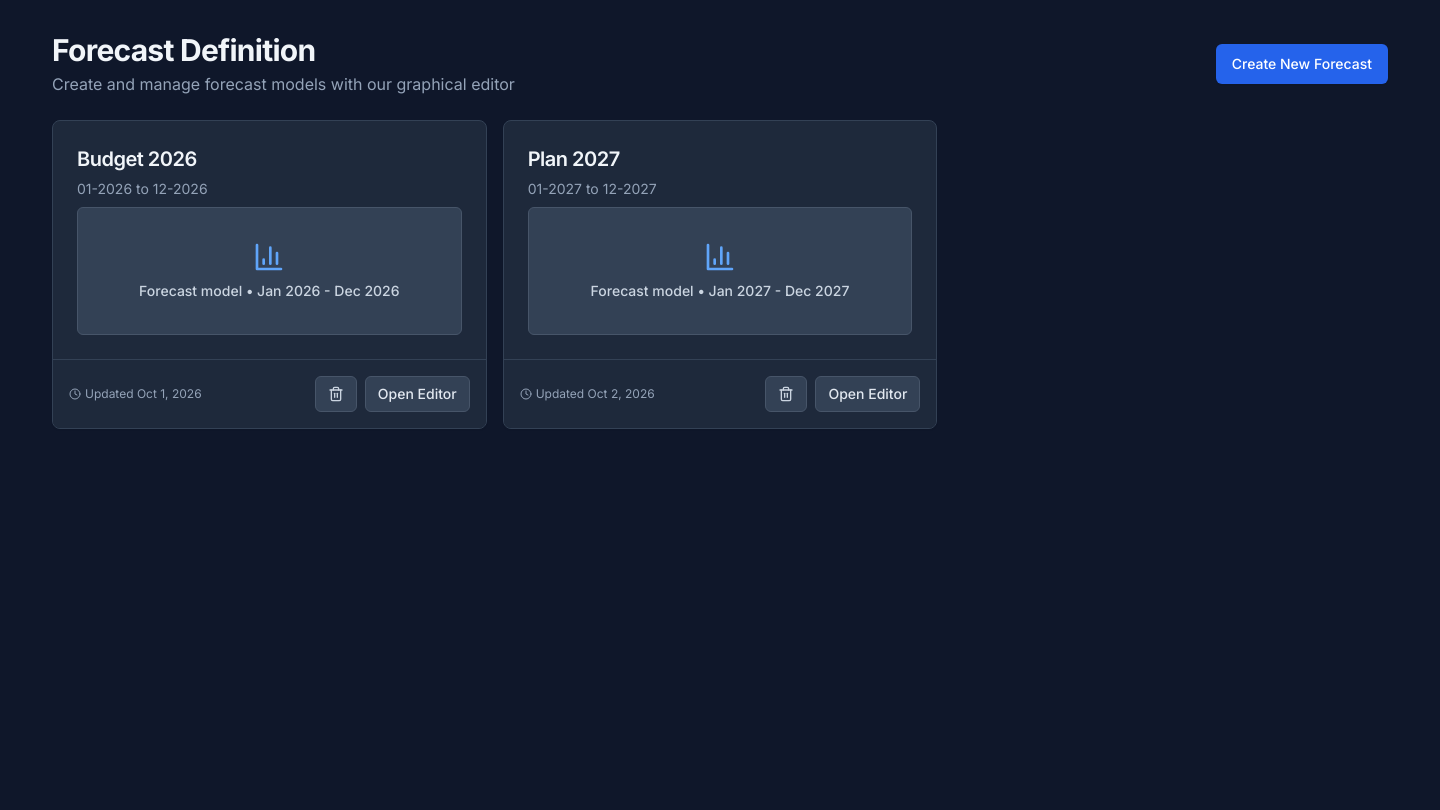
Scenario: ForecastDefinitionPage: deleting a forecast › deletes the forecast after confirmation and removes it from the list
This screenshot has width=1440, height=810.
Check: the heading "Budget 2026" is shown, box [77,147,197,171]
Click the button named "Delete Budget 2026": (336, 394) [315,376,357,412]
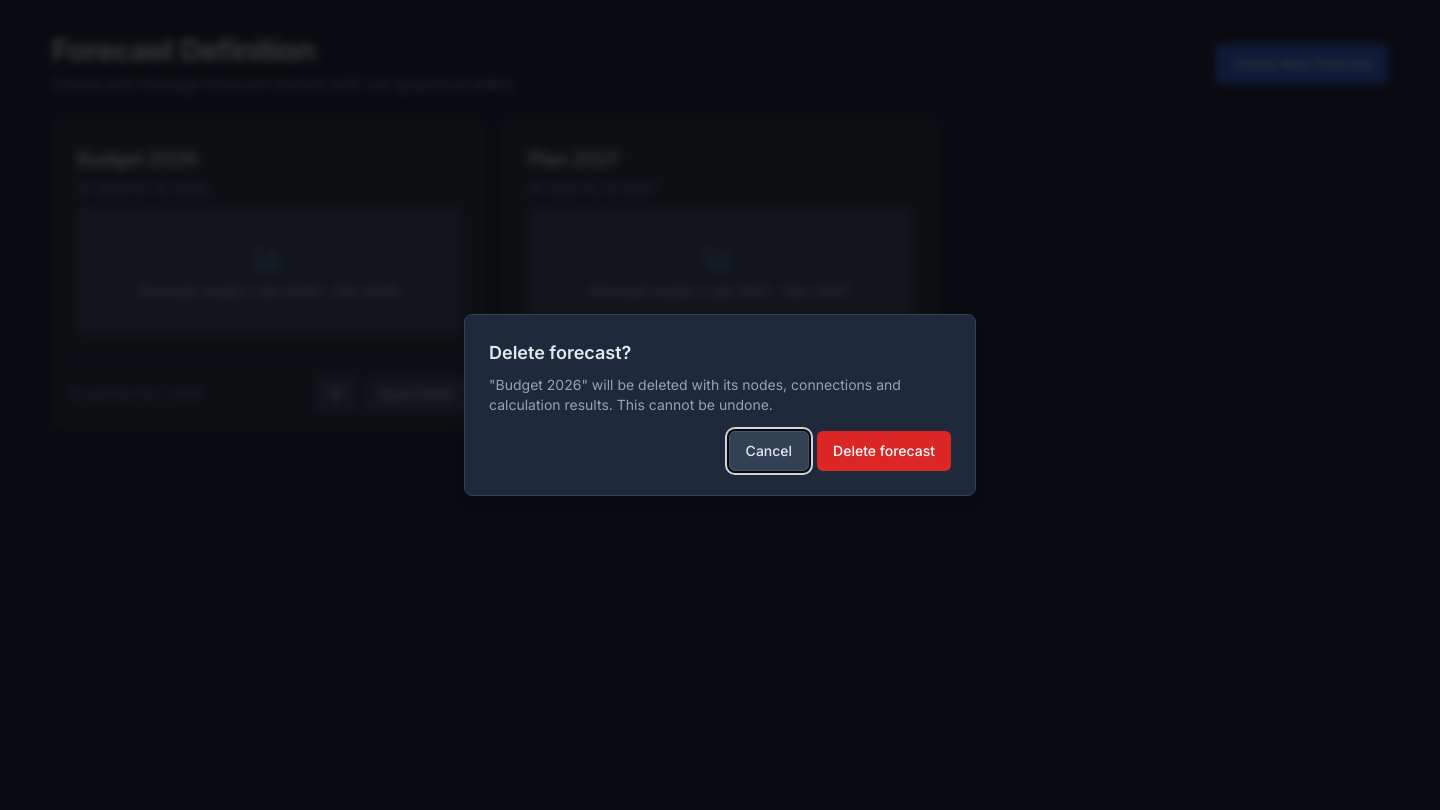
Check: the dialog shows "\"Budget 2026\" will be deleted", box [464,314,976,496]
Click the button "Delete forecast": (884, 451) [817,431,951,471]
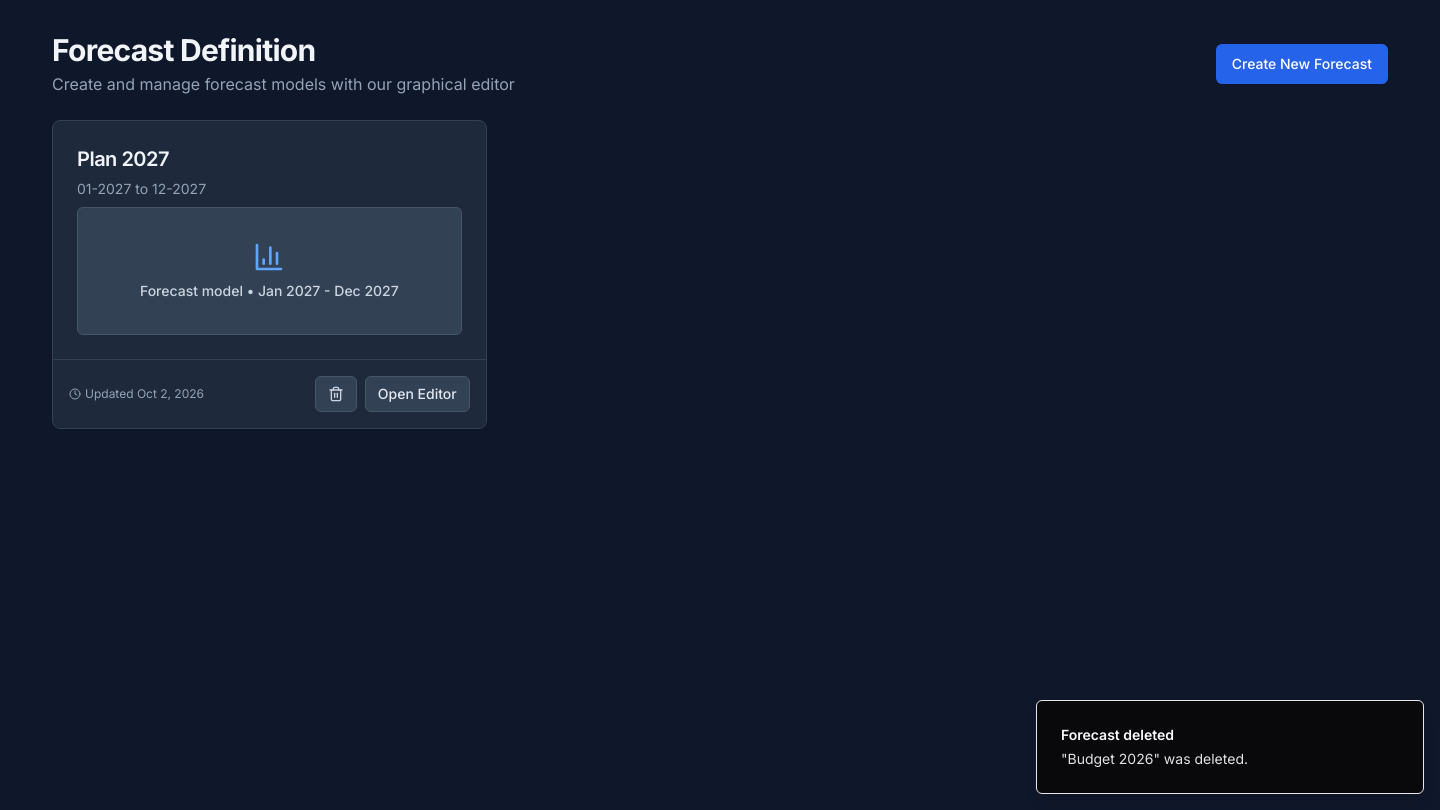
Check: the dialog is gone
